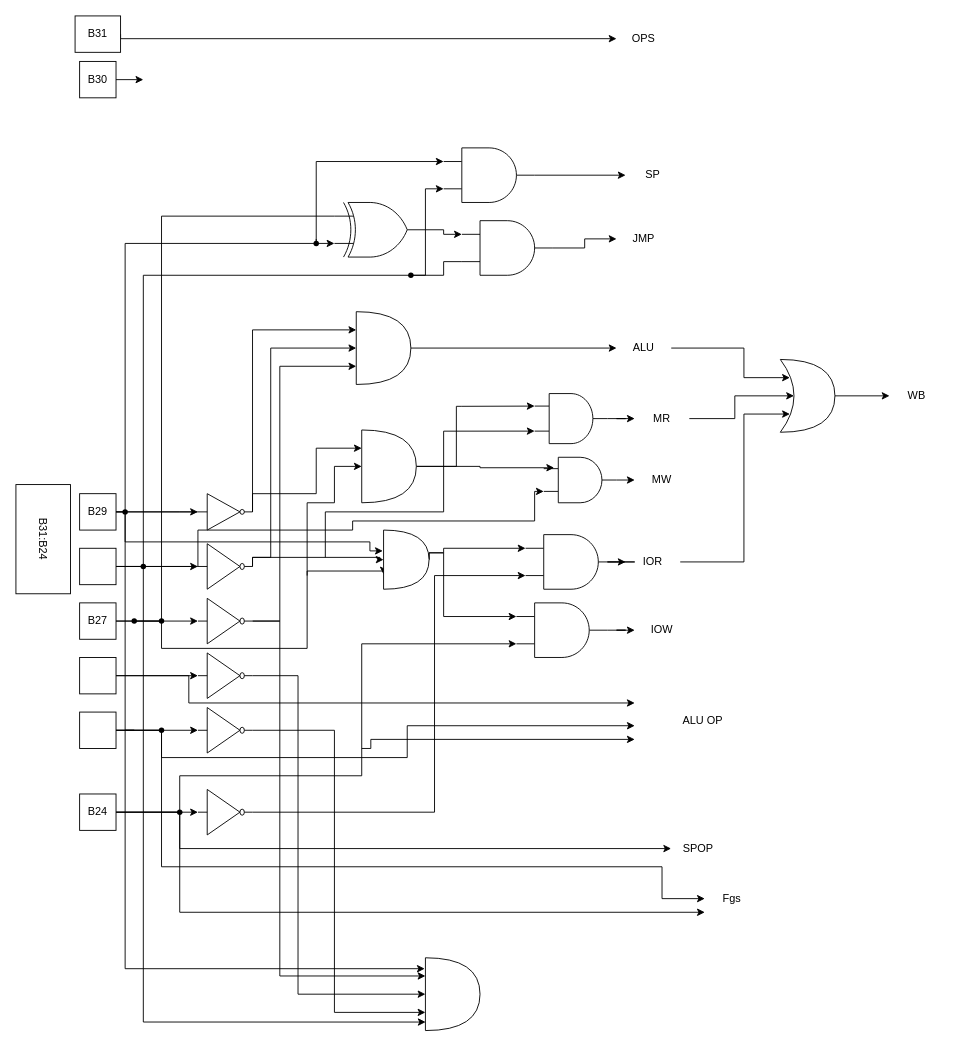
Image size: 960x1047. Some labels were removed from this diagram. The shapes that lost their labels are listed below. From the top down, each one's box as (x1, y1, x2, y2) in pixels, then its label:
(79, 547, 116, 585): B28
(79, 657, 116, 694): B26
(79, 711, 116, 748): B25
